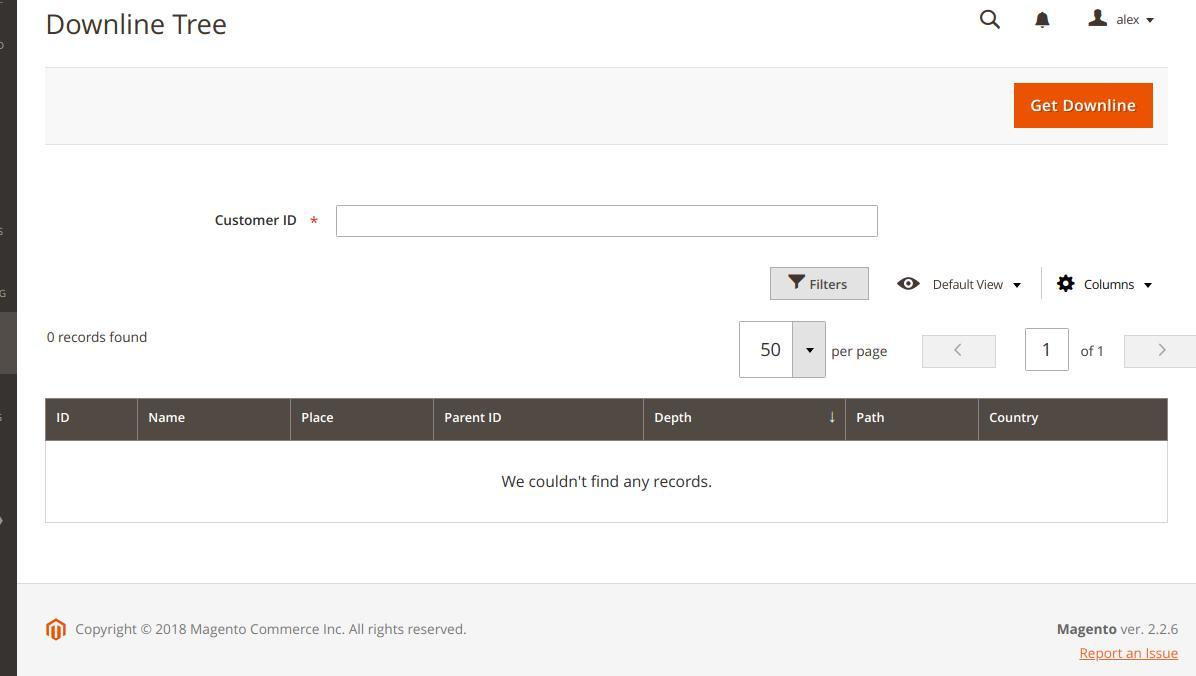button: (1013, 82, 1155, 131), (771, 267, 870, 302), (921, 334, 996, 372), (1126, 334, 1196, 370)
dropdown: (740, 321, 828, 378)
icon: (975, 6, 1009, 33), (1026, 9, 1060, 36), (1054, 266, 1081, 300), (891, 272, 925, 297), (1089, 4, 1112, 36)
input: (338, 208, 879, 239)
label: (203, 213, 328, 236), (831, 344, 894, 366)
table: (45, 400, 1170, 525)
